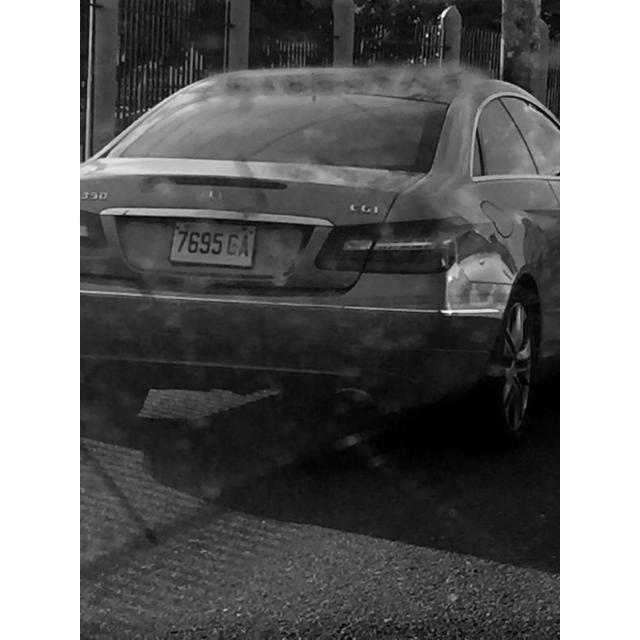rear-bumper-dent: (81, 283, 454, 388)
